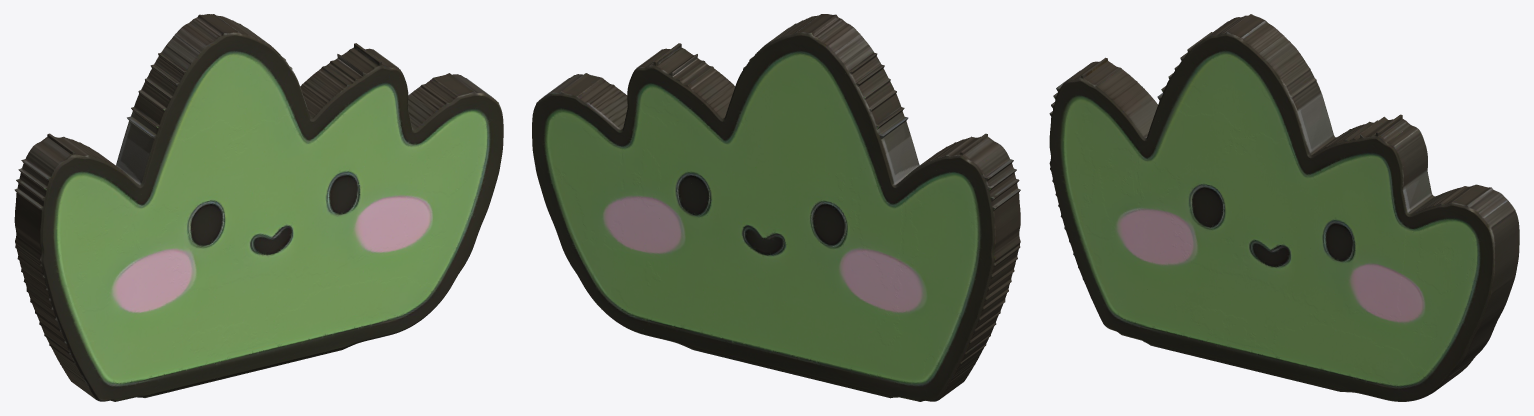
The model's file is grass4.glb.
The picture shows the model from 3 angles, left to right: view 1: azimuth 30°, elevation 25°; view 2: azimuth 150°, elevation 25°; view 3: azimuth 330°, elevation 25°; orthographic projection. The views are drawn at different scales.
Visible parts, largest first — view 1: material.001; view 2: material.001; view 3: material.001.
Boxes of the visible parts, box(x1,y1,x2,y2) form: material.001: box(14, 14, 503, 401); material.001: box(532, 14, 1020, 401); material.001: box(1049, 14, 1519, 401).
Size of the model in its own units: 1.18 by 0.8388 by 0.1216.
Materials: 1 (1 with a texture image).
